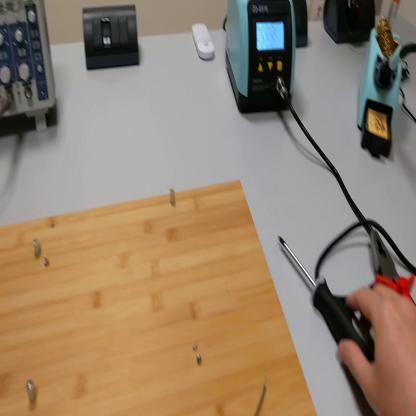hand: (339, 287, 416, 414)
oscilloscope: (1, 3, 56, 133)
pliers: (370, 229, 416, 308)
screwdriver-: (278, 233, 377, 363)
socket: (324, 3, 378, 48), (293, 3, 308, 46)
welder base: (356, 1, 408, 162)
welder probe tip: (382, 43, 403, 96)
working area: (2, 179, 317, 416)
